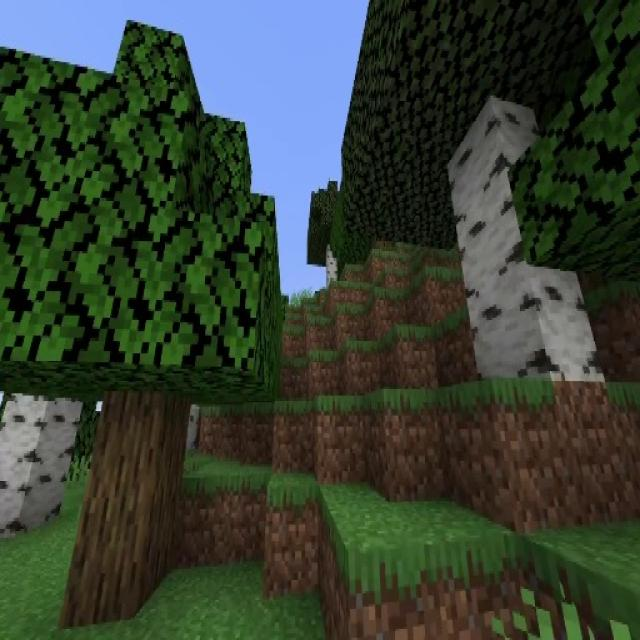birch: (340, 8, 618, 388), (306, 181, 352, 290)
birch_log: (453, 99, 598, 383), (0, 397, 72, 529), (326, 246, 337, 288)
oak: (1, 27, 276, 626)
oak_log: (62, 389, 190, 624)
